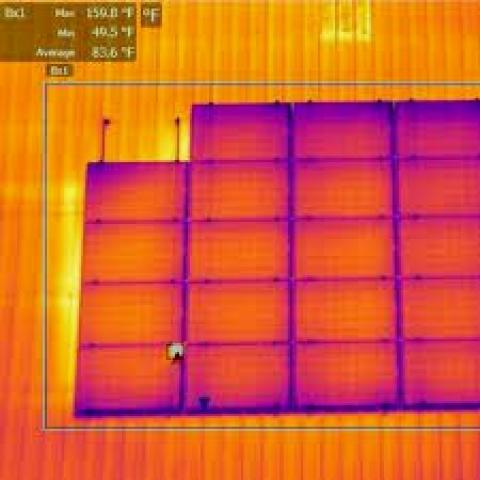fault: (166, 344, 184, 360)
